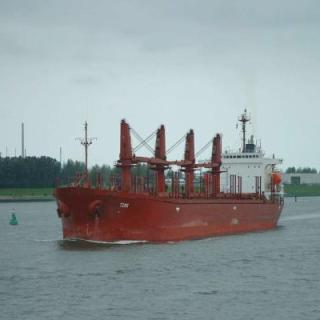Bulk Carrier: (57, 104, 289, 245)
